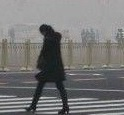person: (22, 23, 73, 114)
